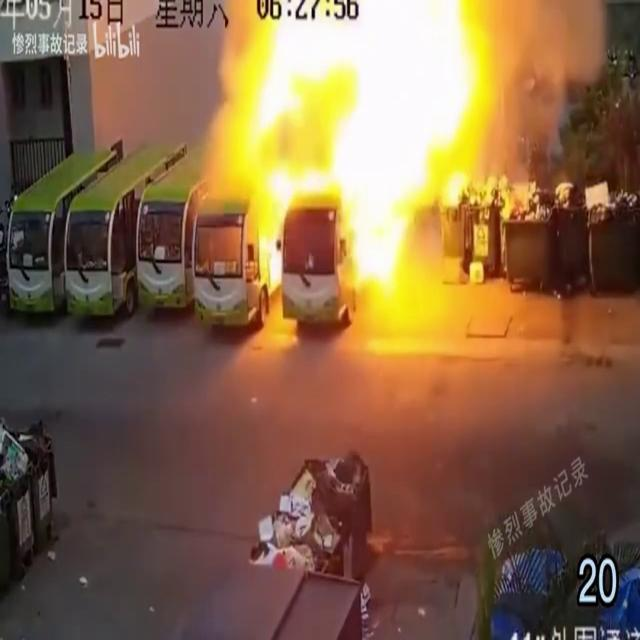single accident: (252, 15, 452, 333)
